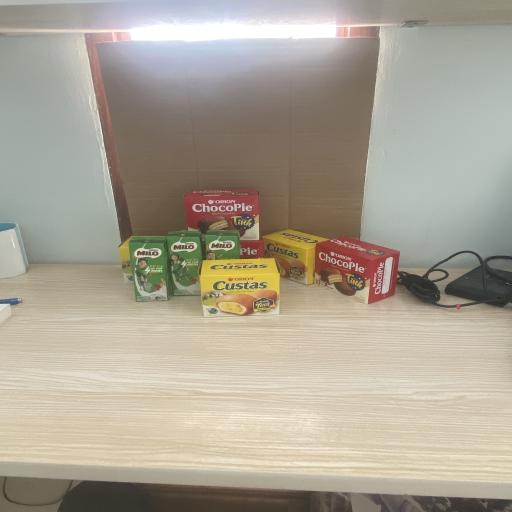chocopie: (314, 236, 400, 304), (184, 189, 260, 240), (240, 238, 263, 258)
custas: (198, 258, 281, 317), (262, 229, 330, 285), (118, 236, 153, 283)
milo: (128, 236, 170, 302), (166, 230, 204, 296), (203, 230, 240, 260)
